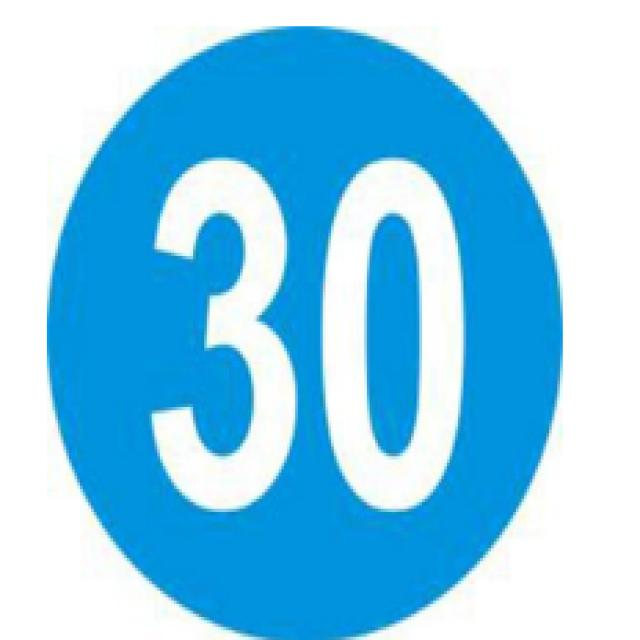Bien bao toc do toi thieu cho phep: (29, 15, 592, 640)
